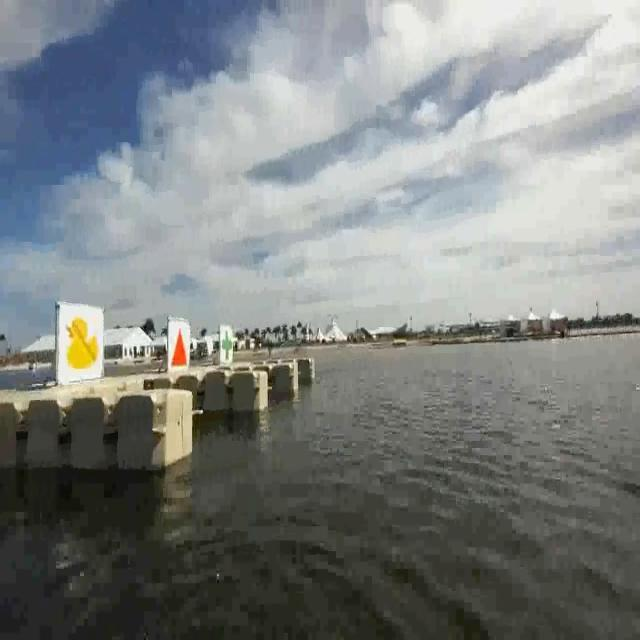blue-cross: (220, 327, 235, 368)
yellow-duck: (56, 301, 105, 388)
